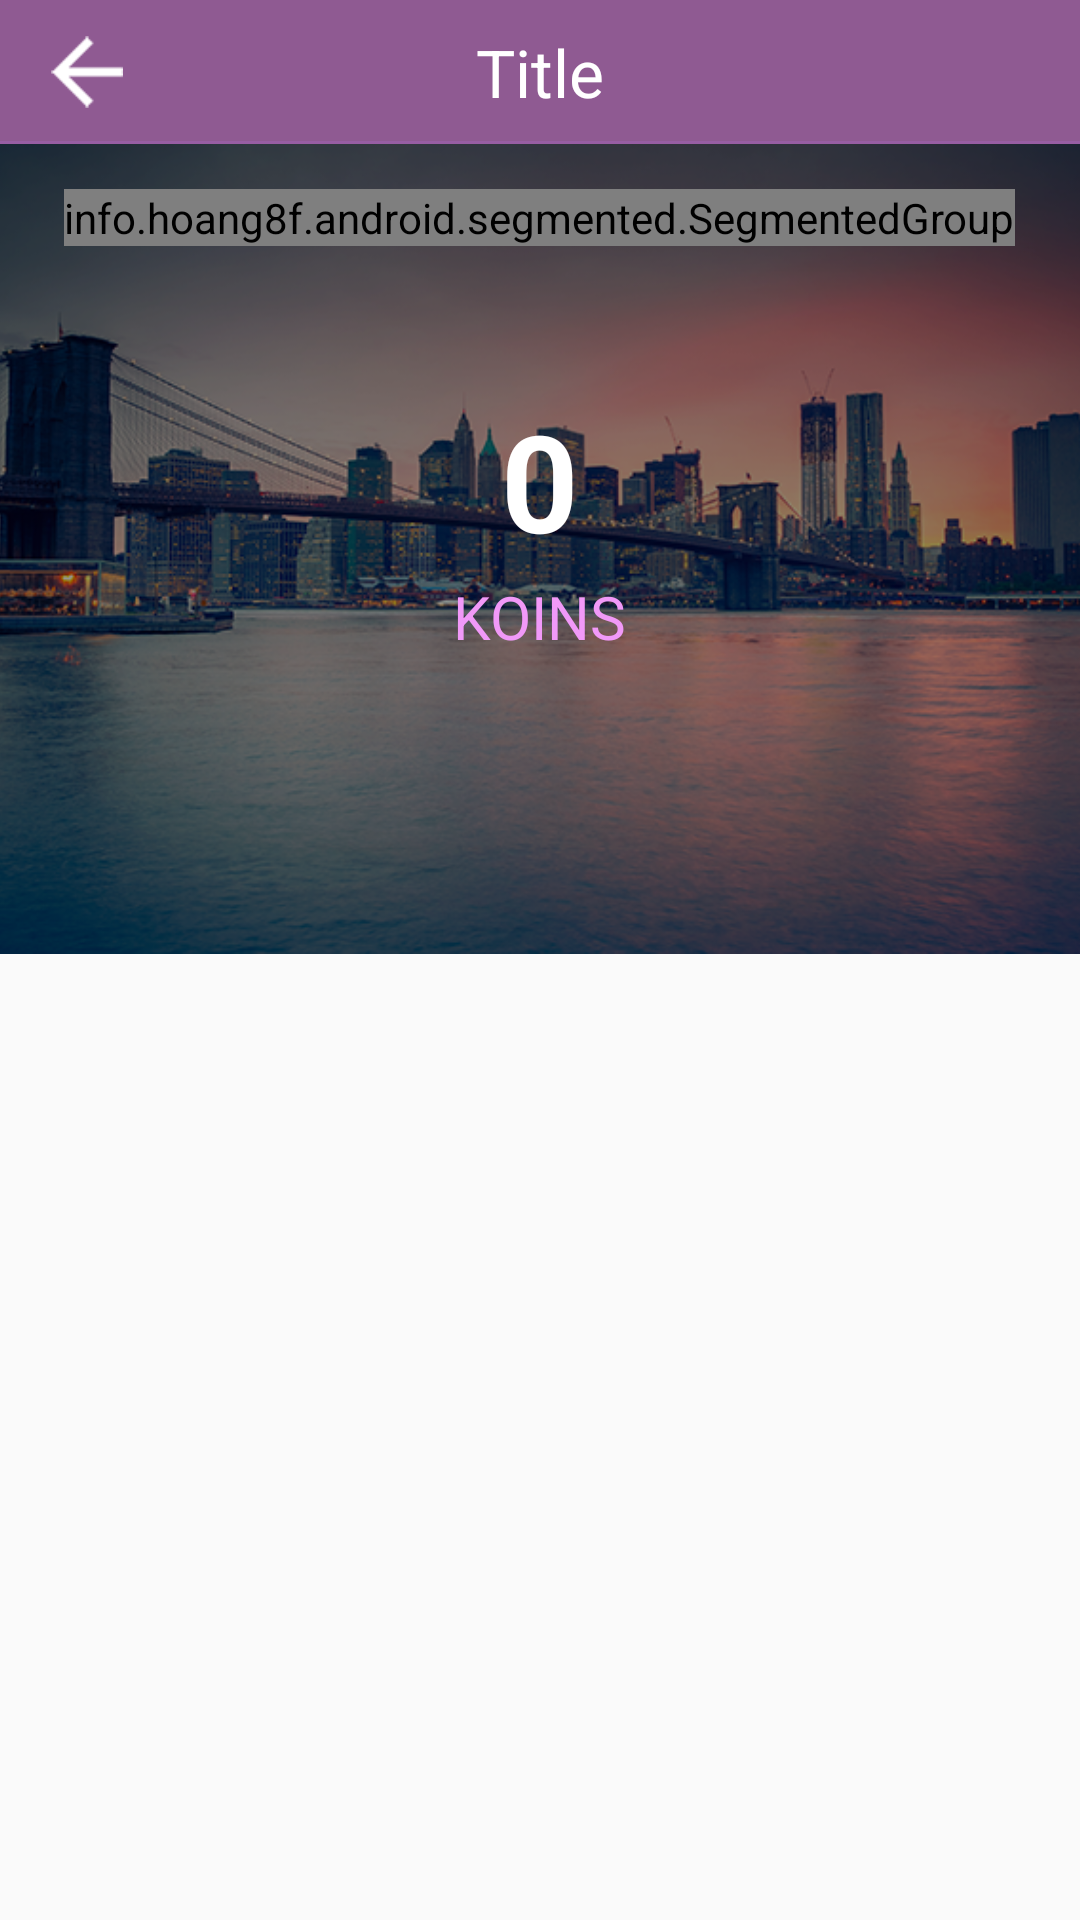

Icon click points for this 1080*1920 phone screenshot, format (x=x, y=y):
back: (x=87, y=72)
